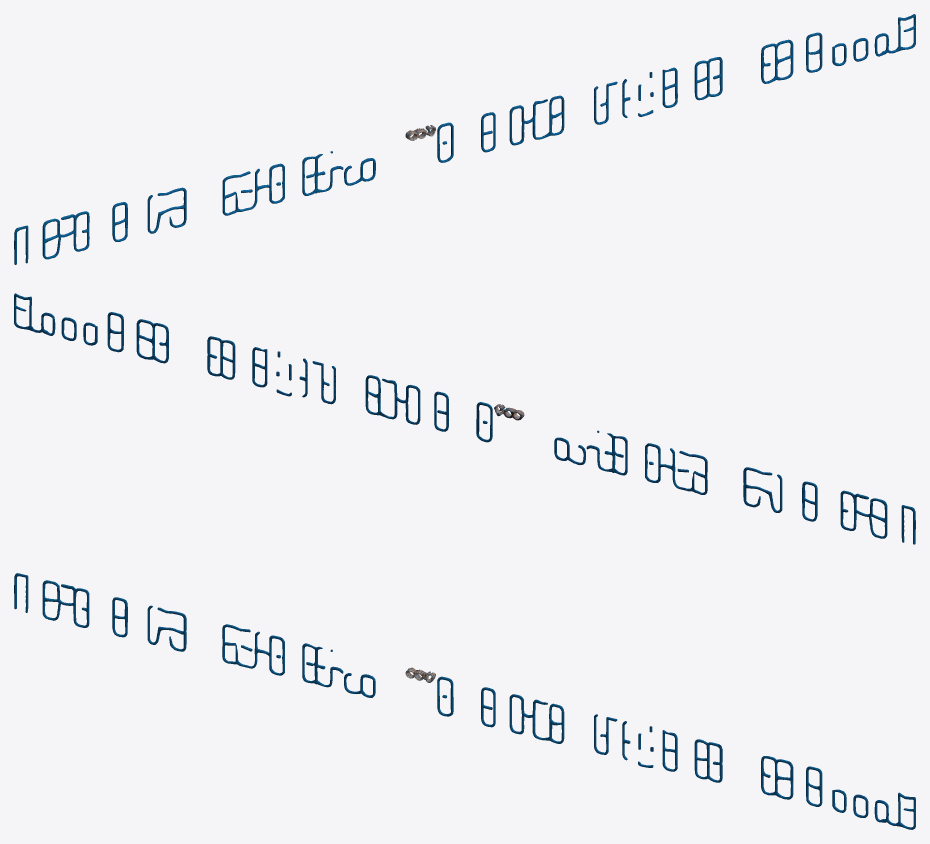
File: dekor-06.glb
The picture shows the model from 3 angles, top to bottom: view 1: azimuth 30°, elevation 25°; view 2: azimuth 150°, elevation 25°; view 3: azimuth 330°, elevation 25°; orthographic projection.
Parts seen in each view (by area): view 1: geometry_0; view 2: geometry_0; view 3: geometry_0.
Part boxes in pixels (x1,y1,x2,y2): geometry_0: (14,14,915,264); geometry_0: (14,293,915,544); geometry_0: (14,573,915,829).
Size of the model in its own units: 0.9971 by 0.0448 by 0.00751.
1 material, 1 textured.
